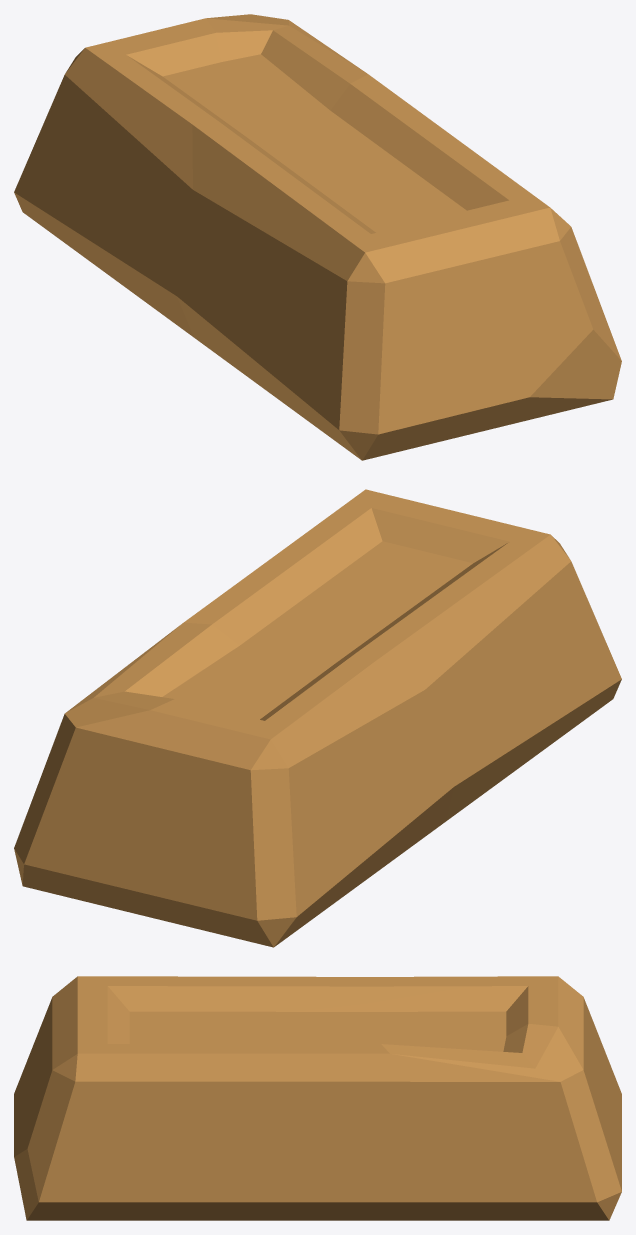
File: GoldIngotEditedCW.fbx
3 views of the same model, one above another, from view 1: azimuth 30°, elevation 25°; view 2: azimuth 150°, elevation 25°; view 3: azimuth 270°, elevation 25° (orthographic). The views are drawn at different scales.
Parts seen in each view (by area): view 1: SM_Item_Ingot_Gold_01; view 2: SM_Item_Ingot_Gold_01; view 3: SM_Item_Ingot_Gold_01.
Boxes of the visible parts, box(x1,y1,x2,y2) form: SM_Item_Ingot_Gold_01: box(14, 14, 621, 460); SM_Item_Ingot_Gold_01: box(14, 489, 621, 947); SM_Item_Ingot_Gold_01: box(14, 976, 621, 1220).
Size of the model in its own units: 9.54 by 5.75 by 20.71.
1 material, 1 textured.
